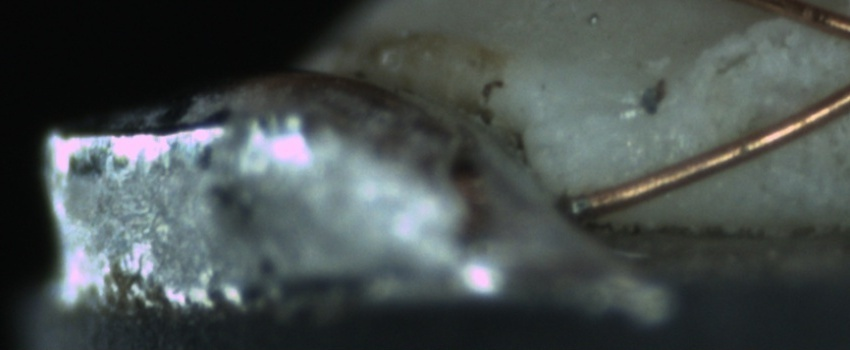DL: (566, 84, 698, 144)
